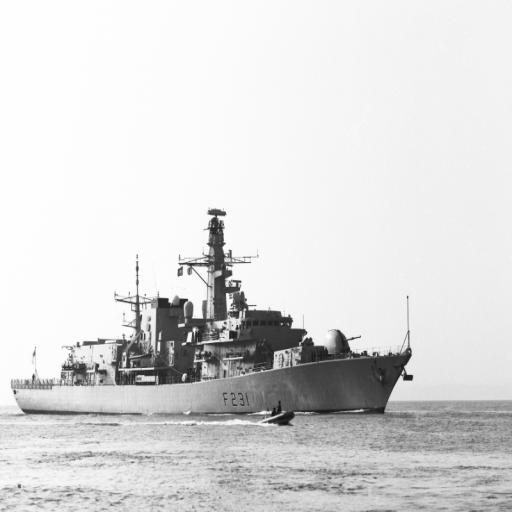Fragata: (8, 210, 422, 427)
